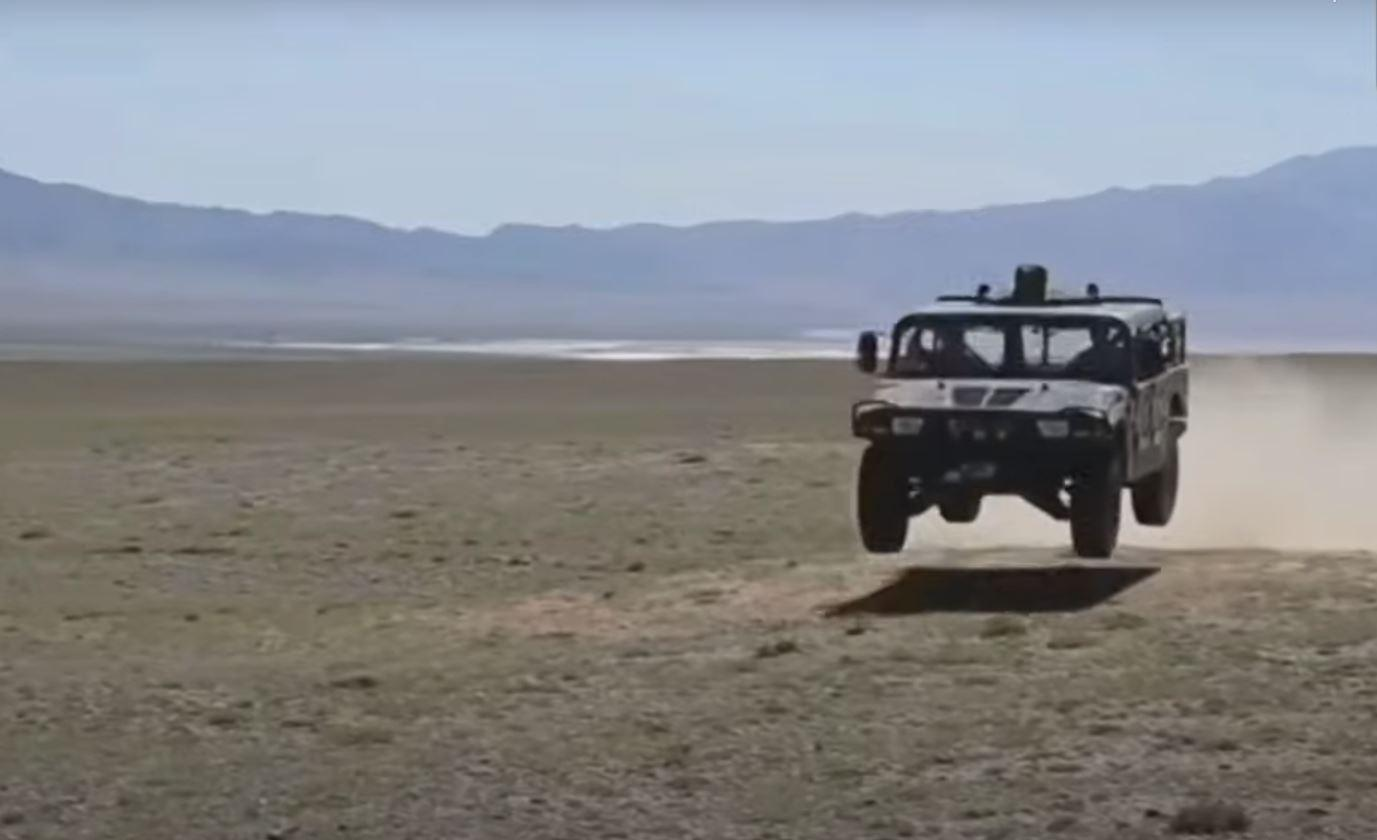armored_car: (849, 261, 1189, 561)
